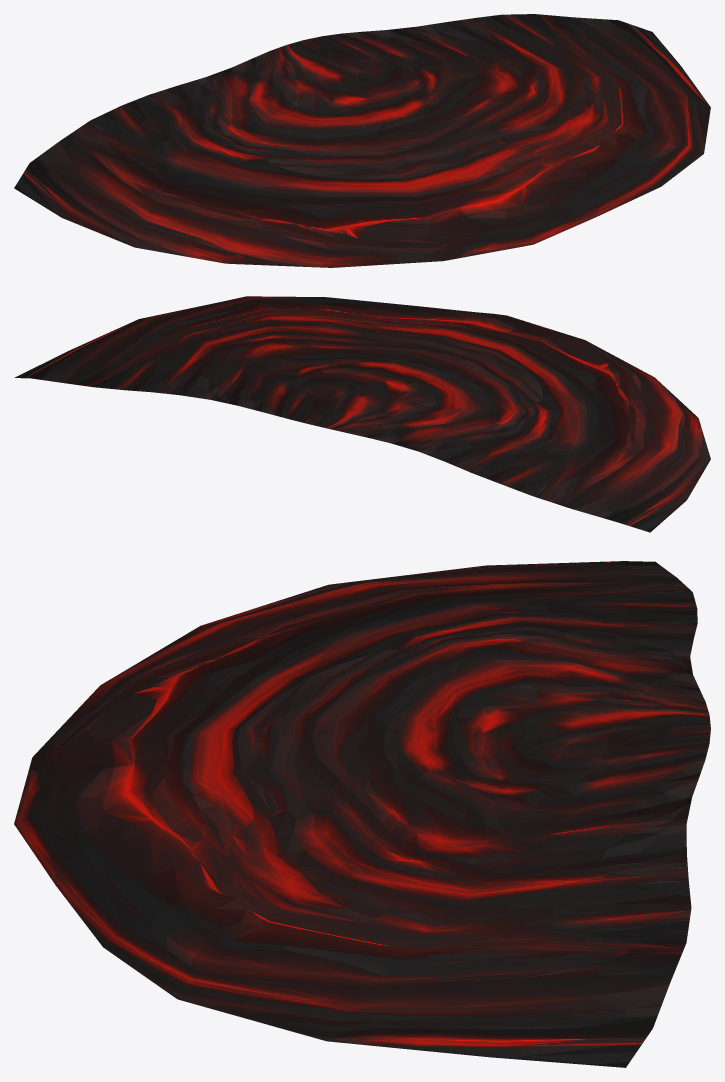
Rendered from SM_Env_Lava_Spread_01.fbx.
The picture shows the model from 3 angles, top to bottom: view 1: azimuth 30°, elevation 25°; view 2: azimuth 150°, elevation 25°; view 3: azimuth 270°, elevation 25°; orthographic projection. The views are drawn at different scales.
Parts seen in each view (by area): view 1: SM_Env_Lava_Spread_01; view 2: SM_Env_Lava_Spread_01; view 3: SM_Env_Lava_Spread_01.
Part boxes in pixels (box(x1,y1,x2,y2)): SM_Env_Lava_Spread_01: box(14, 14, 710, 267); SM_Env_Lava_Spread_01: box(14, 296, 710, 532); SM_Env_Lava_Spread_01: box(14, 561, 710, 1067).
Bounding box in the file's own units: 1109 × 85.22 × 644.
